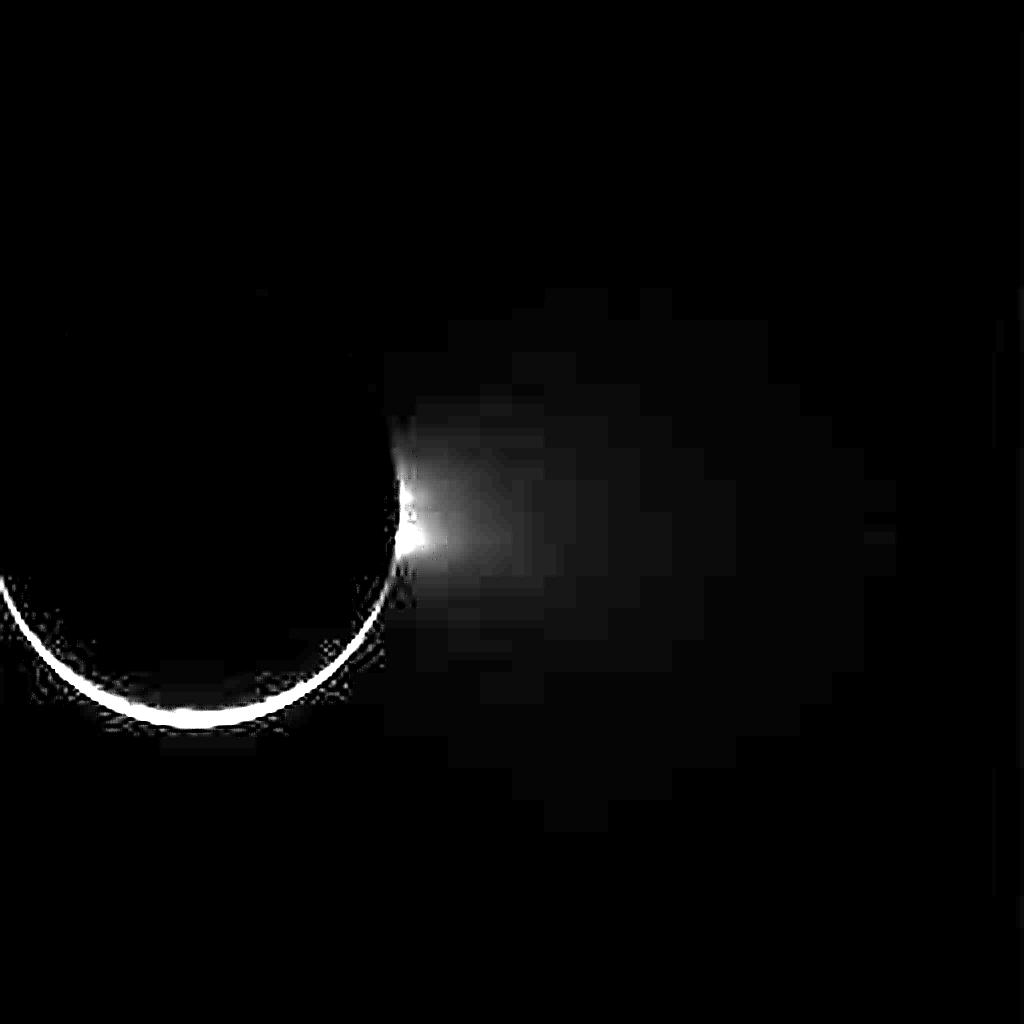plumes: (396, 456, 440, 565)
